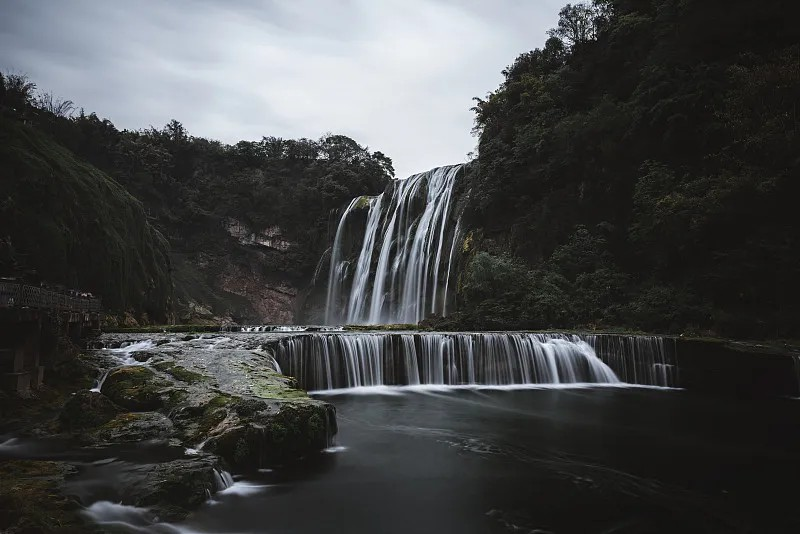Huangguoshu: (318, 165, 466, 327)
